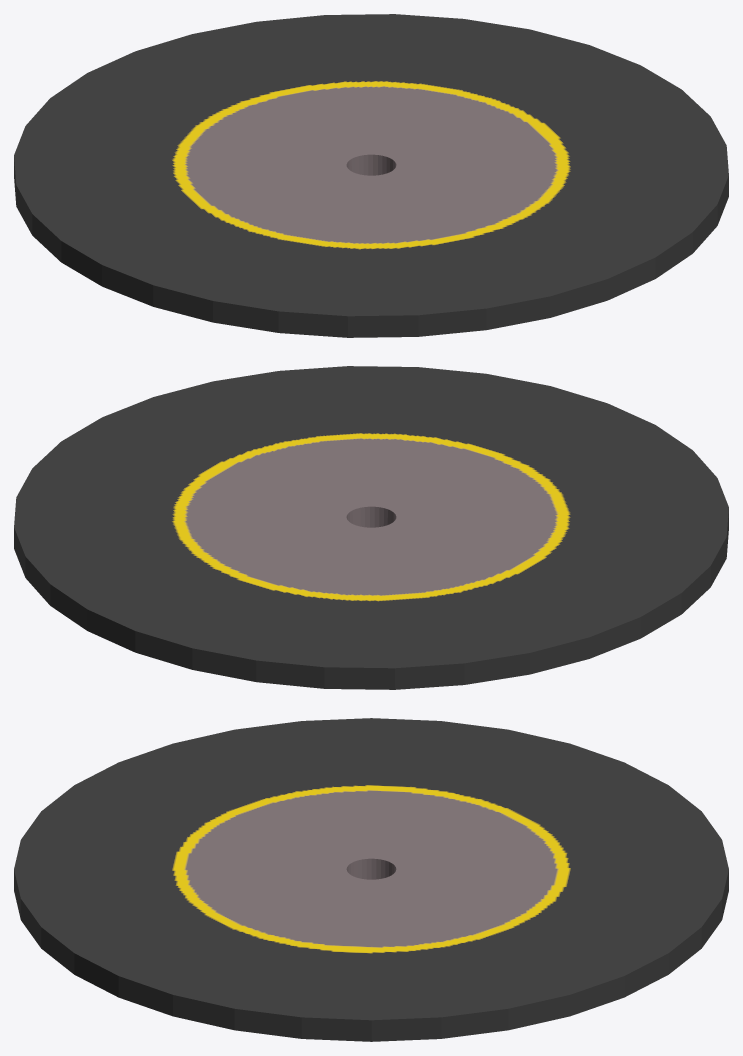
The model's file is vinyl_record_yellow.fbx.
3 views of the same model, one above another, from view 1: azimuth 30°, elevation 25°; view 2: azimuth 150°, elevation 25°; view 3: azimuth 270°, elevation 25° (orthographic).
Visible parts, largest first — view 1: vinyl_record_yellow_Baked; view 2: vinyl_record_yellow_Baked; view 3: vinyl_record_yellow_Baked.
Part boxes in pixels (x1,y1,x2,y2): vinyl_record_yellow_Baked: (14, 14, 728, 337); vinyl_record_yellow_Baked: (14, 366, 728, 689); vinyl_record_yellow_Baked: (14, 718, 728, 1041).
Bounding box in the file's own units: 30 × 1 × 30.
Materials: 1 (1 with a texture image).
